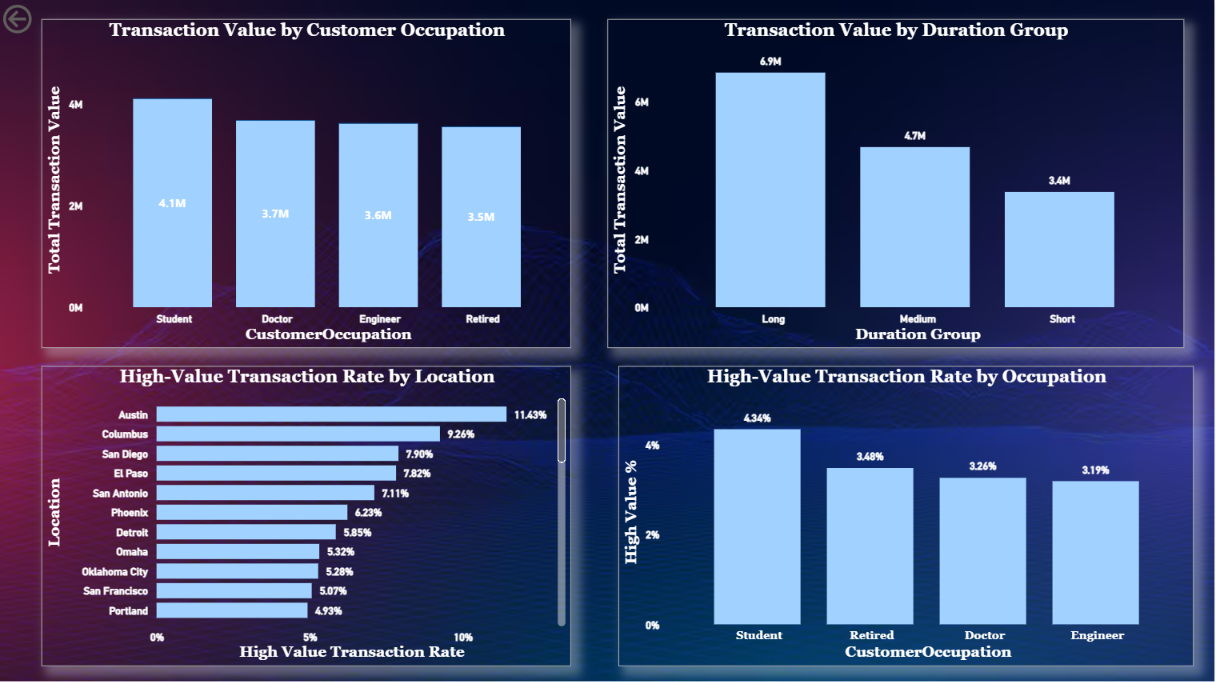

The dashboard page shown, as its layout file describes it:
{"tool":"powerbi","page":{"name":"Page 2","canvas":[1280,720],"ordinal":1},"visuals":[{"type":"columnChart","title":"Transaction Value by Customer Occupation","fields":{"Category":["BankAnanlysis.CustomerOccupation"],"Y":["BankAnanlysis.Total Transaction Value","BankAnanlysis.Total Transactions"]},"box":[44.9,20.3,558,346.4],"z":0},{"type":"columnChart","title":"Transaction  Value by Duration Group","fields":{"Category":["BankAnanlysis.Duration Group"],"Y":["BankAnanlysis.Total Transaction Value"]},"box":[640.6,20.3,607.2,346.4],"z":1000},{"type":"clusteredBarChart","title":"High-Value Transaction Rate by Location","fields":{"Category":["BankAnanlysis.Location"],"Y":["BankAnanlysis.High Value %"]},"box":[44.9,385.5,558,315.9],"z":2000},{"type":"clusteredColumnChart","title":"High-Value Transaction Rate by Occupation","fields":{"Y":["BankAnanlysis.High Value %"],"Category":["BankAnanlysis.CustomerOccupation"]},"box":[652.2,385.5,605.8,315.9],"z":3000},{"type":"actionButton","box":[0,0,100,40],"z":4000}]}

Visuals, with their boxes in screenshot pixels (x1, y1, x2, y2), scaled from the page's 1280x720 canvas onto the 1216x682 screenshot:
"Transaction Value by Customer Occupation" columnChart: (left=43, top=19, right=573, bottom=347)
"Transaction  Value by Duration Group" columnChart: (left=609, top=19, right=1185, bottom=347)
"High-Value Transaction Rate by Location" clusteredBarChart: (left=43, top=365, right=573, bottom=664)
"High-Value Transaction Rate by Occupation" clusteredColumnChart: (left=620, top=365, right=1195, bottom=664)
actionButton: (left=0, top=0, right=95, bottom=38)
